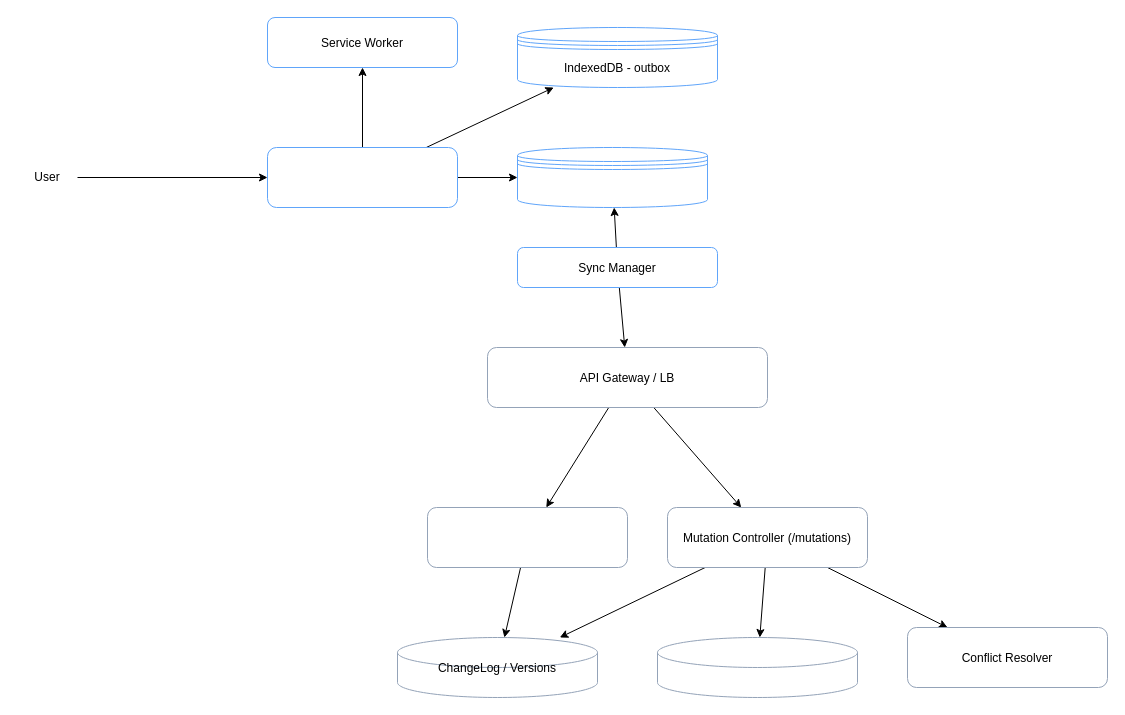
This 1125x715 diagram has some shape labels left out. Here are the shapes that lost their labels. From the top down, the centre of each, then its label:
(362,177): UI (index.html, app.js)
(612,177): IndexedDB - notes
(527,537): Sync Controller (/sync)
(757,667): Notes DB
